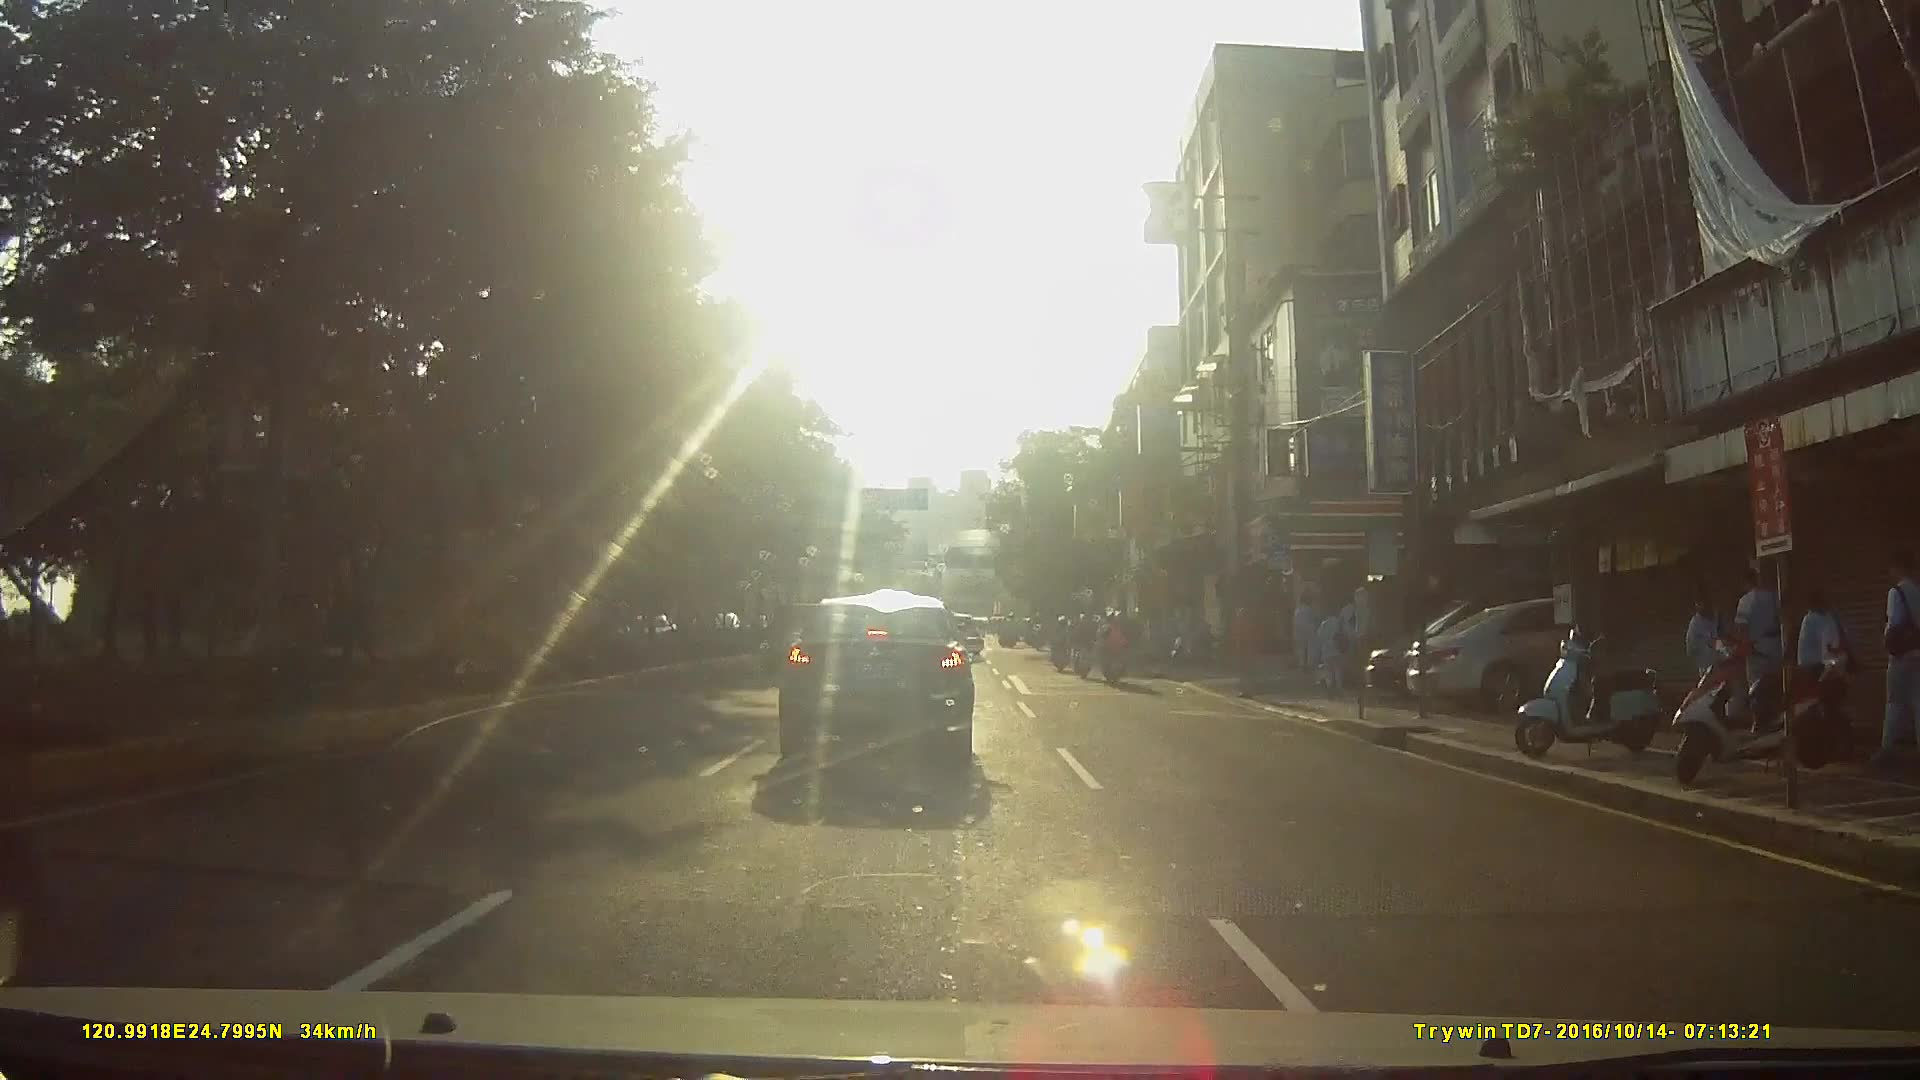pedestrian: (1732, 558, 1787, 750), (1869, 551, 1916, 768), (1793, 582, 1849, 746), (1688, 579, 1730, 728), (1313, 602, 1356, 702)
rider: (1099, 612, 1137, 693), (1069, 611, 1096, 685), (1048, 618, 1074, 678)
vehicle: (759, 583, 996, 781), (1403, 592, 1742, 714)
